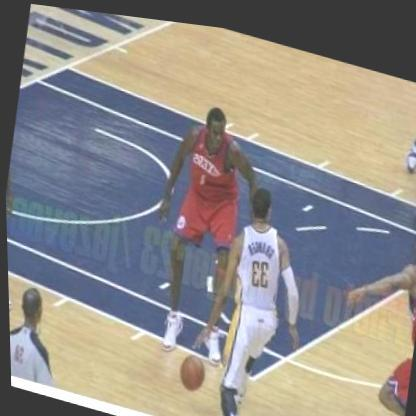basketball: (178, 345, 204, 388)
